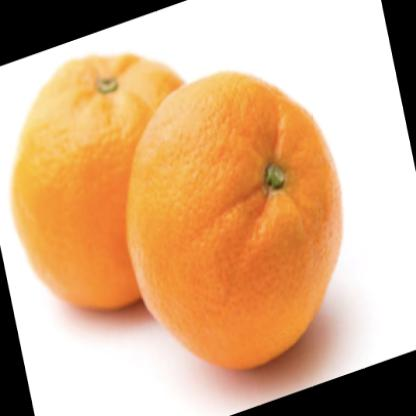fresh: (16, 51, 347, 376)
